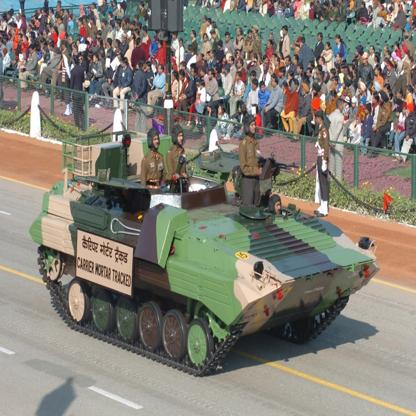Tank: (32, 121, 383, 391)
